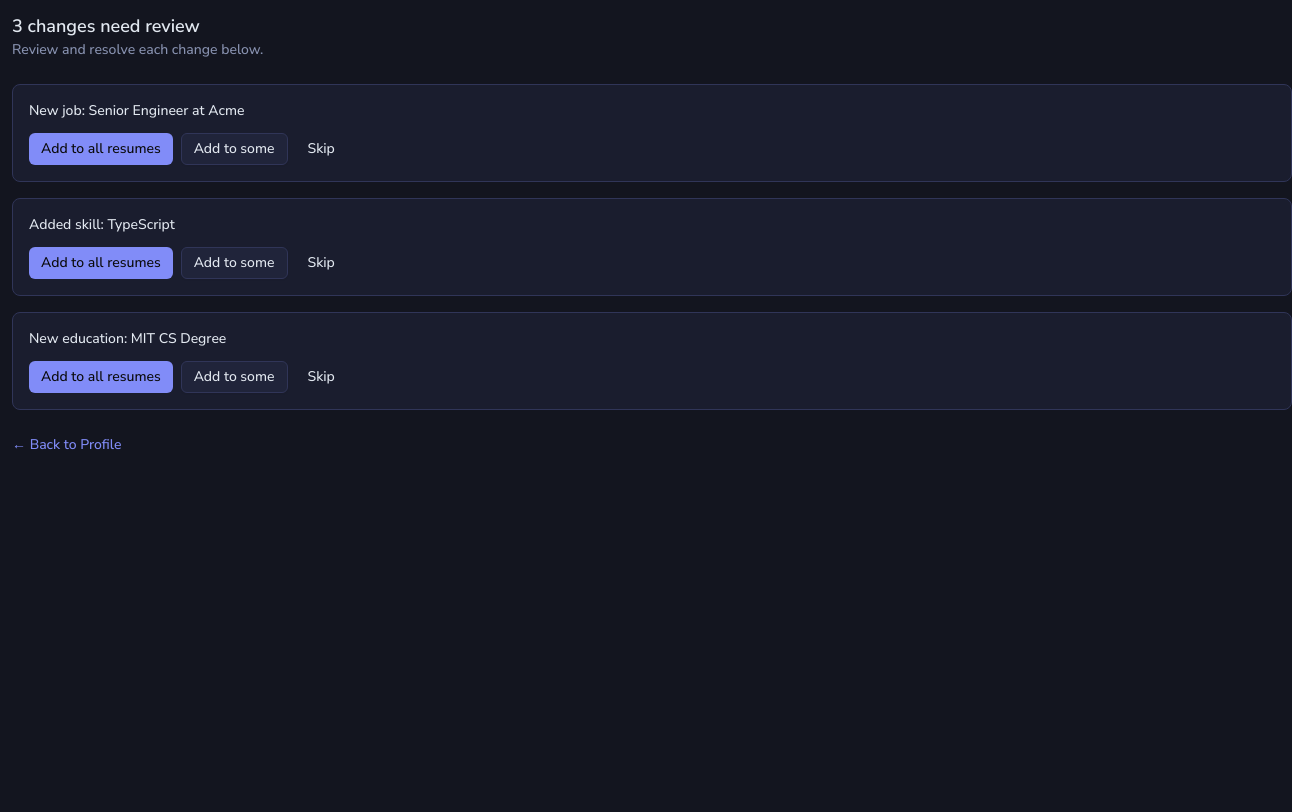
Test case: ChangeFlagsResolver › resolution — add to some › expands base resume checklist on click
The width and height of the screenshot is (1292, 812).
Click the button with test id "add-some-1": (234, 149) [181,133,288,165]
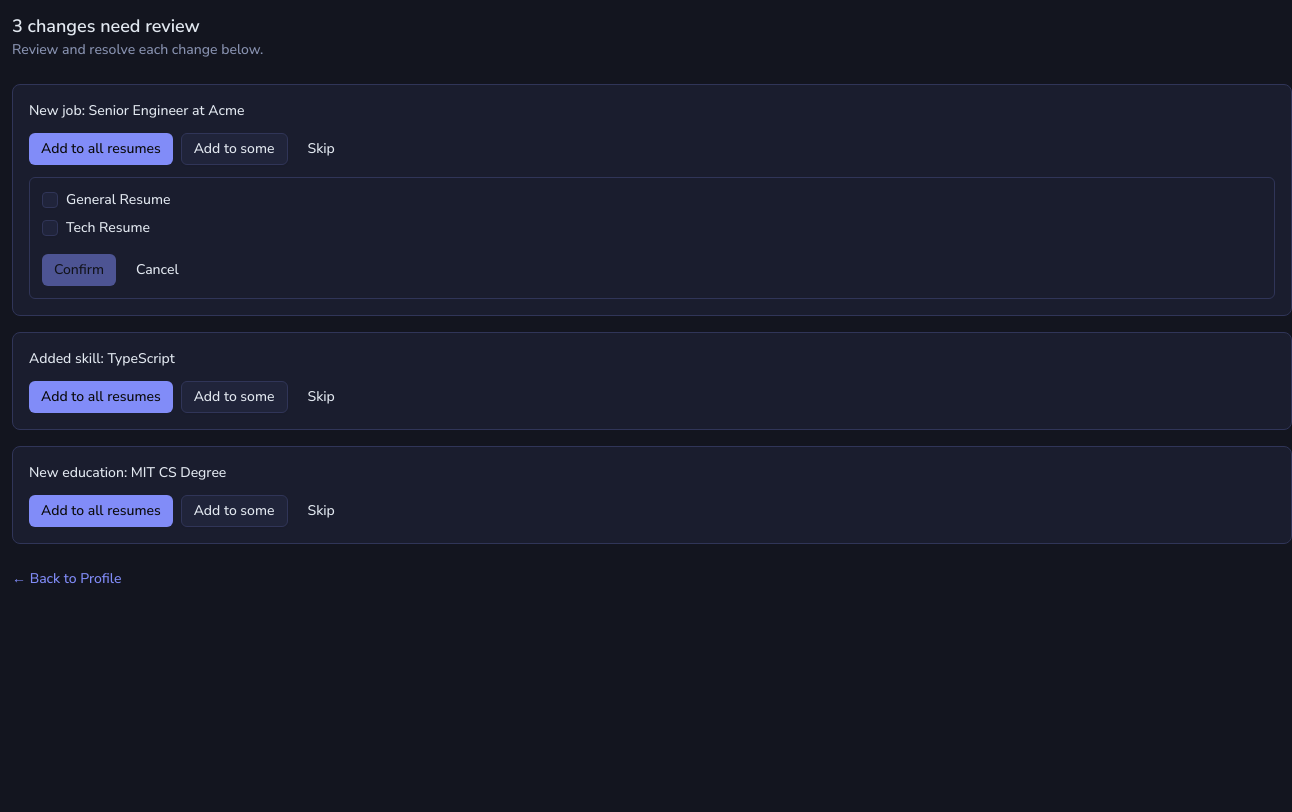
Check: the element with test id "resume-checklist-1" is shown, box [29,177,1275,299]
